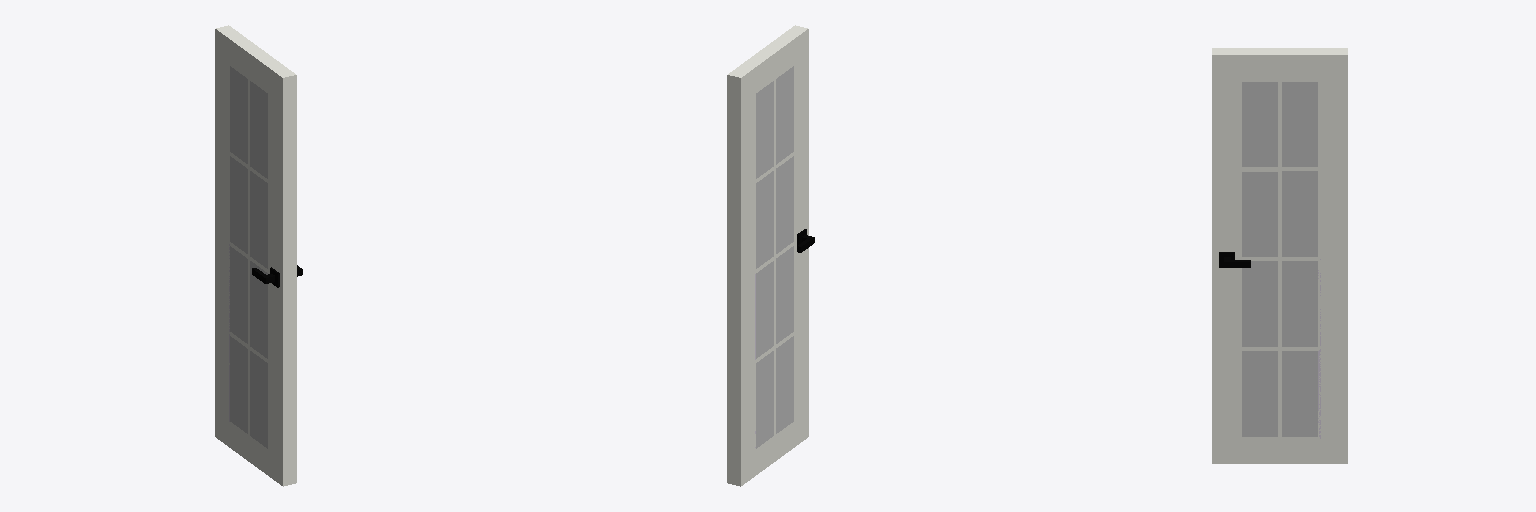
The model's file is door602_lactic.obj.
3 renders of one model, left to right at view 1: azimuth 30°, elevation 25°; view 2: azimuth 150°, elevation 25°; view 3: azimuth 270°, elevation 25°, orthographic.
Visible parts, largest first — view 1: Cube; view 2: Cube; view 3: Cube.
Boxes of the visible parts, <box> form: Cube: <box>215,25,302,486</box>; Cube: <box>727,25,814,486</box>; Cube: <box>1212,48,1347,463</box>.
Bounding box in the file's own units: 0.1899 × 2 × 0.5999.